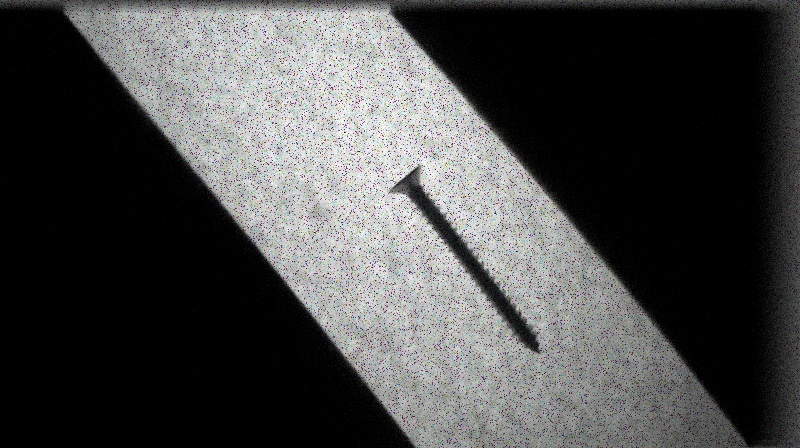S002: (384, 161, 546, 358)
